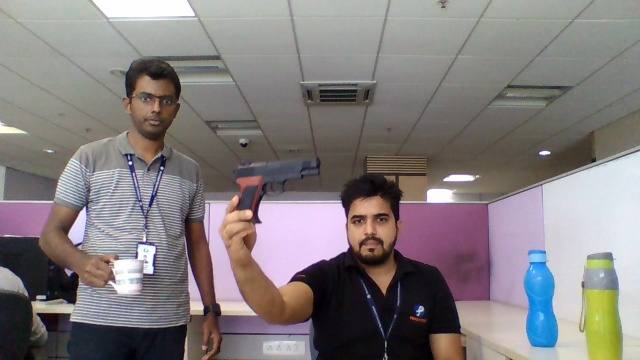gun: (233, 157, 323, 211)
